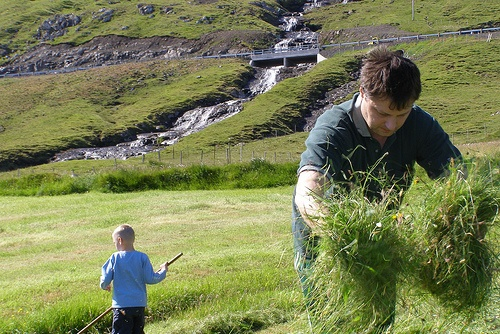head: (359, 44, 422, 142), (111, 223, 136, 252)
person: (289, 40, 462, 285), (98, 223, 168, 333)
